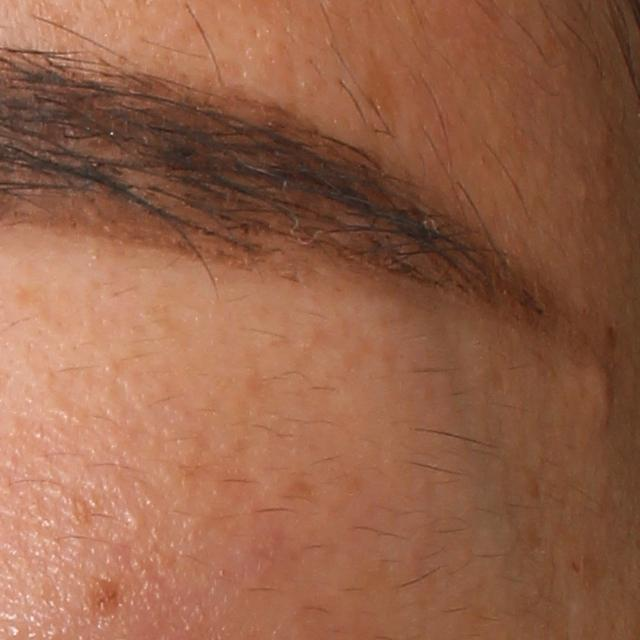comedo: (121, 502, 155, 535)
melasma: (175, 428, 279, 506), (84, 577, 132, 623)
